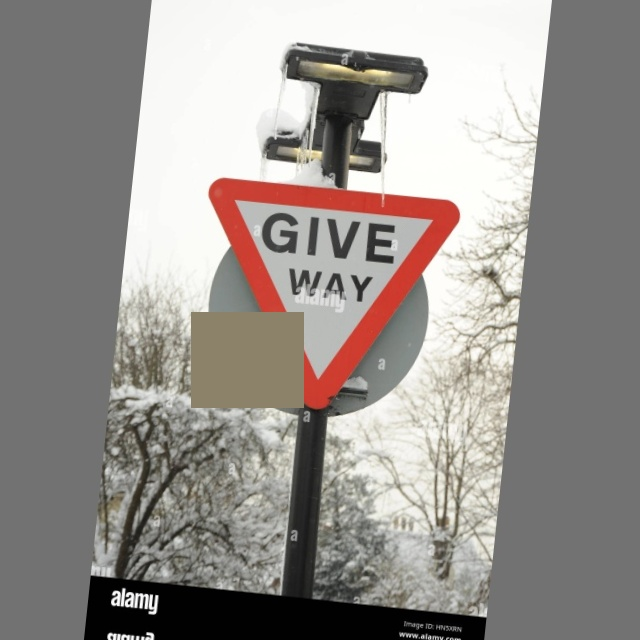Give_Way: (189, 174, 458, 426)
